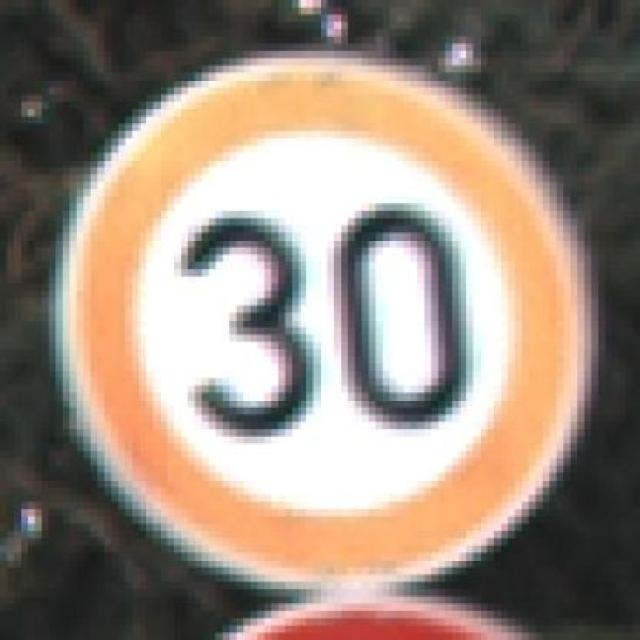Speed Limit 30 KMPh: (21, 36, 619, 582)
